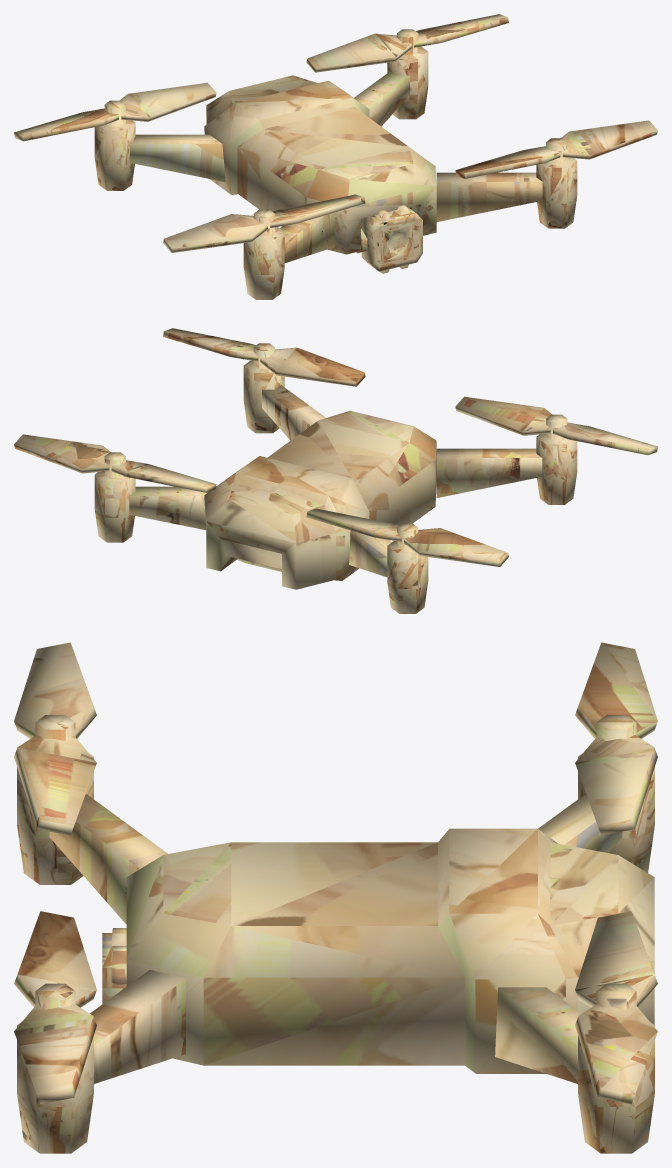
File: drone_new.fbx
The picture shows the model from 3 angles, top to bottom: view 1: azimuth 30°, elevation 25°; view 2: azimuth 150°, elevation 25°; view 3: azimuth 270°, elevation 25°; orthographic projection. The views are drawn at different scales.
Visible parts, largest first — view 1: drone, drone_propeller_4, drone_propeller_2, drone_propeller_1, drone_propeller_3; view 2: drone, drone_propeller_3, drone_propeller_1, drone_propeller_2, drone_propeller_4; view 3: drone, drone_propeller_1, drone_propeller_2, drone_propeller_3, drone_propeller_4.
Boxes of the visible parts, x1,y1,x2,y2 form: drone: [94, 29, 577, 299]; drone_propeller_4: [163, 194, 365, 252]; drone_propeller_2: [306, 14, 508, 72]; drone_propeller_1: [455, 120, 657, 178]; drone_propeller_3: [14, 82, 216, 141]; drone: [94, 343, 577, 613]; drone_propeller_3: [306, 508, 508, 566]; drone_propeller_1: [163, 328, 365, 386]; drone_propeller_2: [14, 434, 216, 492]; drone_propeller_4: [455, 396, 657, 455]; drone: [17, 715, 654, 1153]; drone_propeller_1: [14, 911, 96, 1104]; drone_propeller_2: [575, 911, 657, 1104]; drone_propeller_3: [575, 642, 657, 835]; drone_propeller_4: [14, 642, 96, 835].
Bounding box in the file's own units: 200 × 40.96 × 122.
